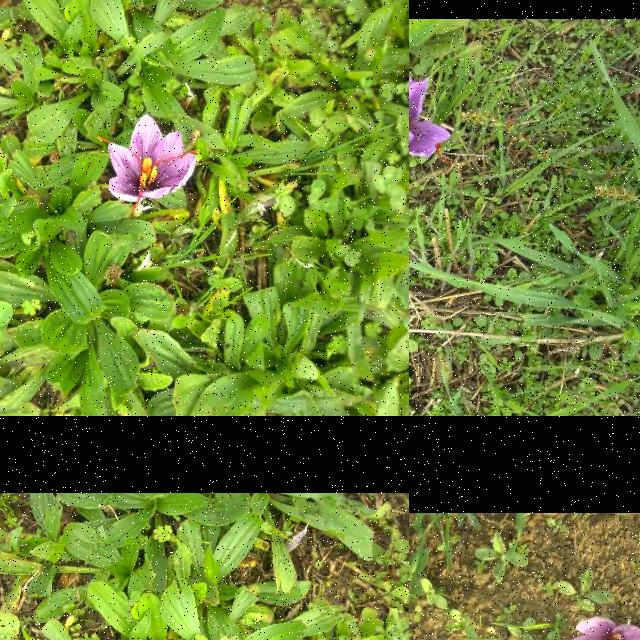flower: (109, 115, 200, 211), (409, 71, 452, 163), (556, 616, 640, 640)
